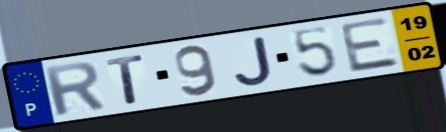5: (290, 24, 341, 79)
9: (172, 43, 219, 99)
E: (336, 15, 403, 75)
J: (232, 34, 276, 88)
R: (40, 59, 109, 118)
T: (104, 52, 147, 105)
